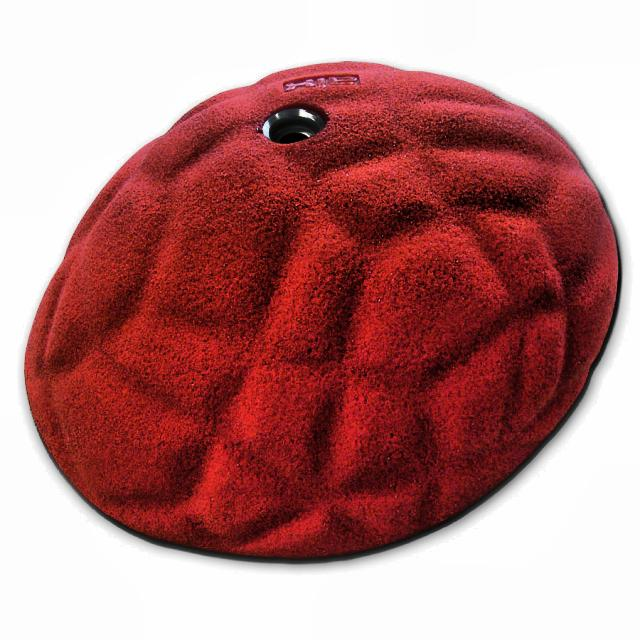Hold: (27, 67, 610, 564)
